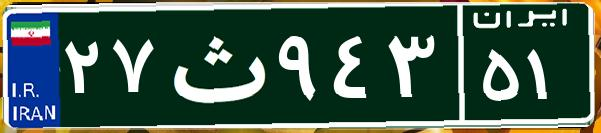1: (525, 38, 570, 115)
2: (57, 26, 110, 107)
3: (385, 28, 445, 110)
4: (330, 28, 385, 110)
5: (475, 38, 525, 113)
7: (110, 28, 158, 105)
9: (273, 28, 330, 110)
ث: (158, 15, 273, 115)
